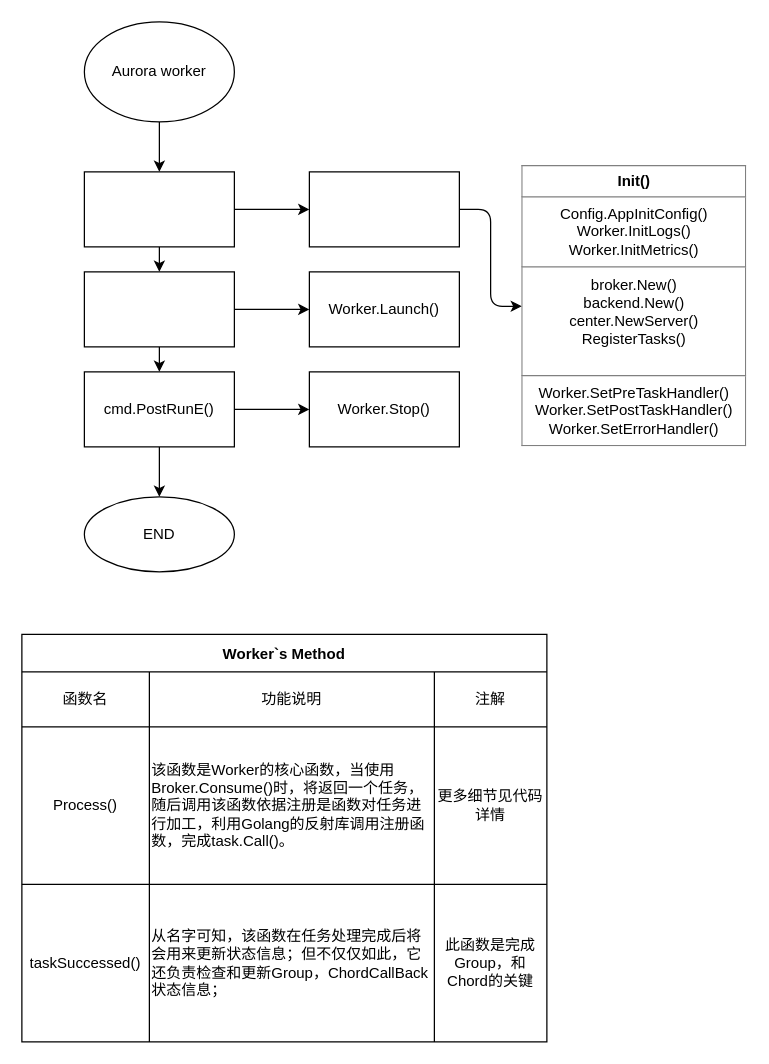
Some shapes in this 769 by 1064 pixel diagram are drawn without their labels. The centre of each missing label's shape, as x and y in pixels:
"cmd.PreRunE()" belongs at (158,209).
"cmd.RunE()" belongs at (158,309).
"Worker.Init()" belongs at (383,209).
